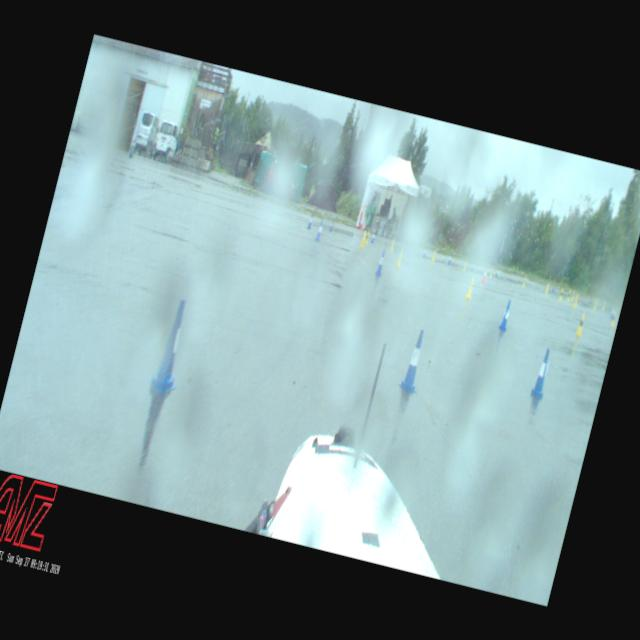blue_cone: (144, 295, 197, 396), (396, 328, 431, 393), (528, 346, 554, 397), (498, 298, 514, 332), (374, 248, 388, 276), (314, 220, 324, 242), (306, 212, 314, 230), (328, 218, 335, 232), (370, 232, 376, 244), (610, 306, 616, 318), (422, 246, 428, 258), (447, 253, 452, 264)
orange_cone: (480, 265, 490, 283)
yellow_cone: (574, 311, 588, 336), (465, 275, 476, 299), (395, 248, 404, 268), (360, 230, 368, 248), (364, 230, 371, 245), (388, 237, 396, 250), (572, 294, 578, 308), (610, 312, 616, 326), (558, 288, 564, 300), (488, 266, 494, 278), (566, 290, 572, 301), (431, 250, 436, 262), (462, 260, 467, 272), (544, 284, 550, 292), (593, 298, 597, 309), (522, 276, 526, 286), (570, 290, 574, 300)
